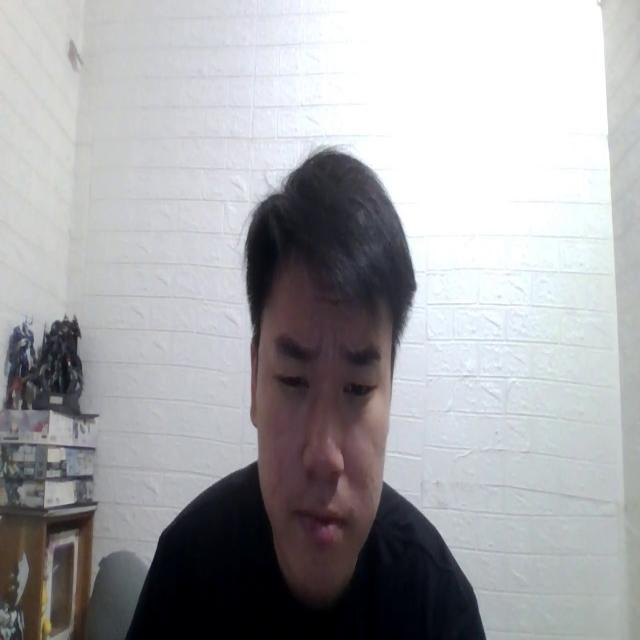student: (144, 153, 487, 640)
